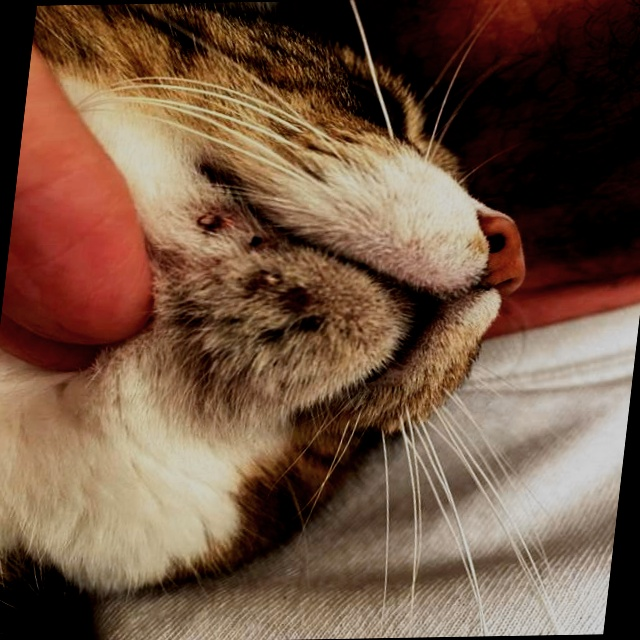acne: (156, 206, 366, 364)
